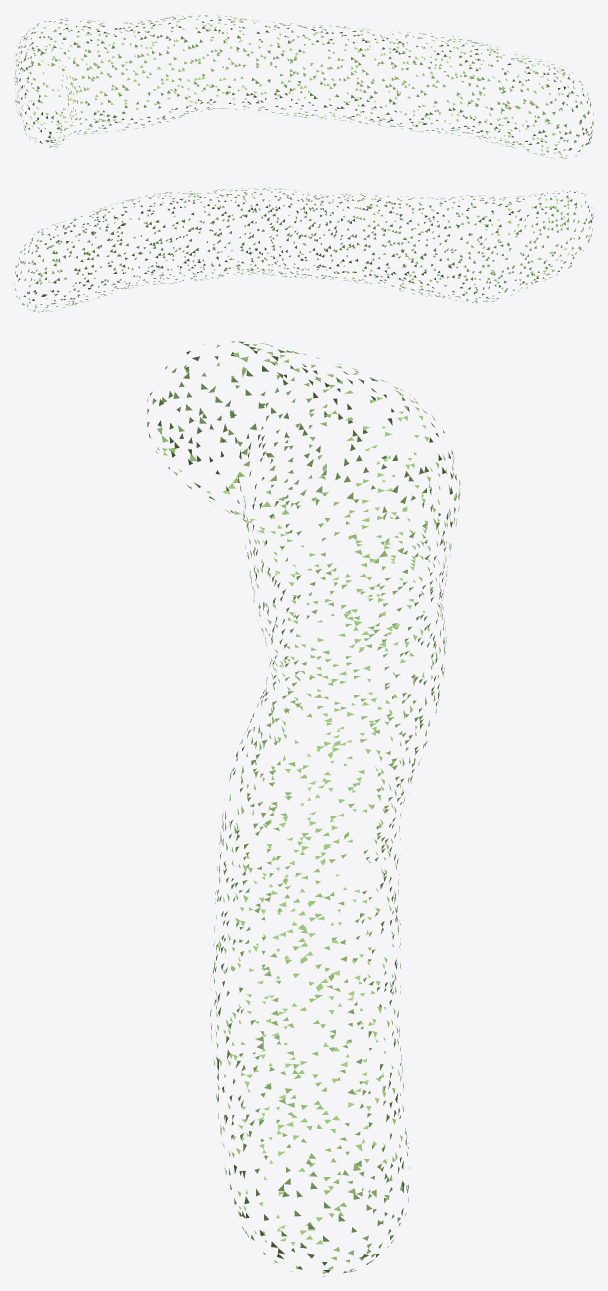
Rendered from morph_013.glb.
3 renders of one model, top to bottom at view 1: azimuth 30°, elevation 25°; view 2: azimuth 150°, elevation 25°; view 3: azimuth 270°, elevation 25°, orthographic. The views are drawn at different scales.
Bounding box in the file's own units: 119 × 47.96 × 30.48.
